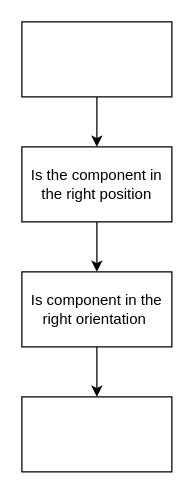
The diagram is 194 pixels wide and 494 high, and some of its shapes have lost their labels. The centre of each missing label's shape, as x and y in pixels:
Detect component using trained model: pixel 96 59
If the componet has polarity, is the polarity same as the ground truth?: pixel 96 434
